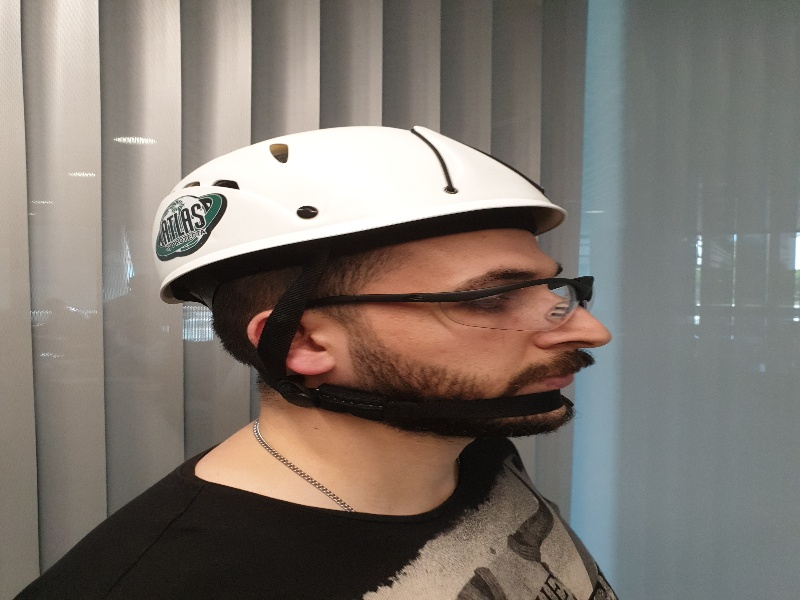Baret: (153, 123, 561, 267)
Gozluk: (322, 274, 597, 329)
